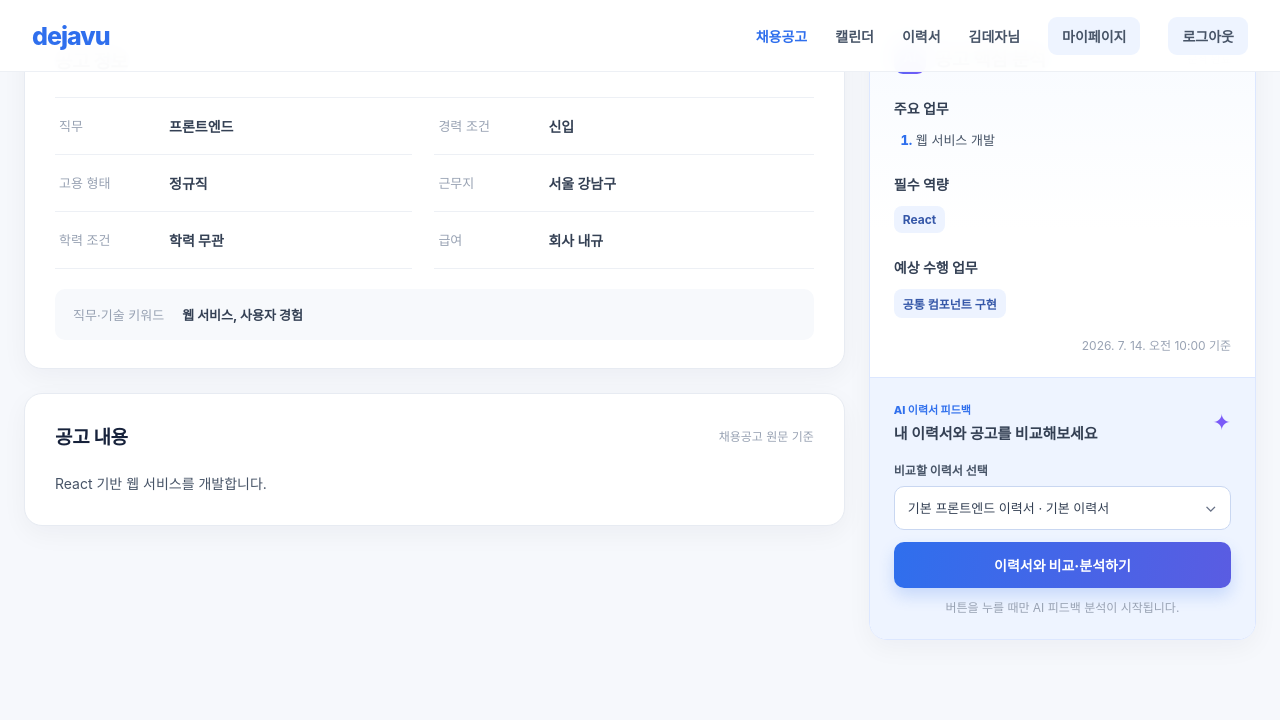
it: runs resume feedback only after the user clicks the comparison button
(page scrolled)
Expected: the dropdown labelled "비교할 이력서 선택" shows "기본 프론트엔드 이력서 · 기본 이력서", [894,486,1231,530]
Click the button "이력서와 비교·분석하기" at (1062, 565), box [894,542,1231,588]
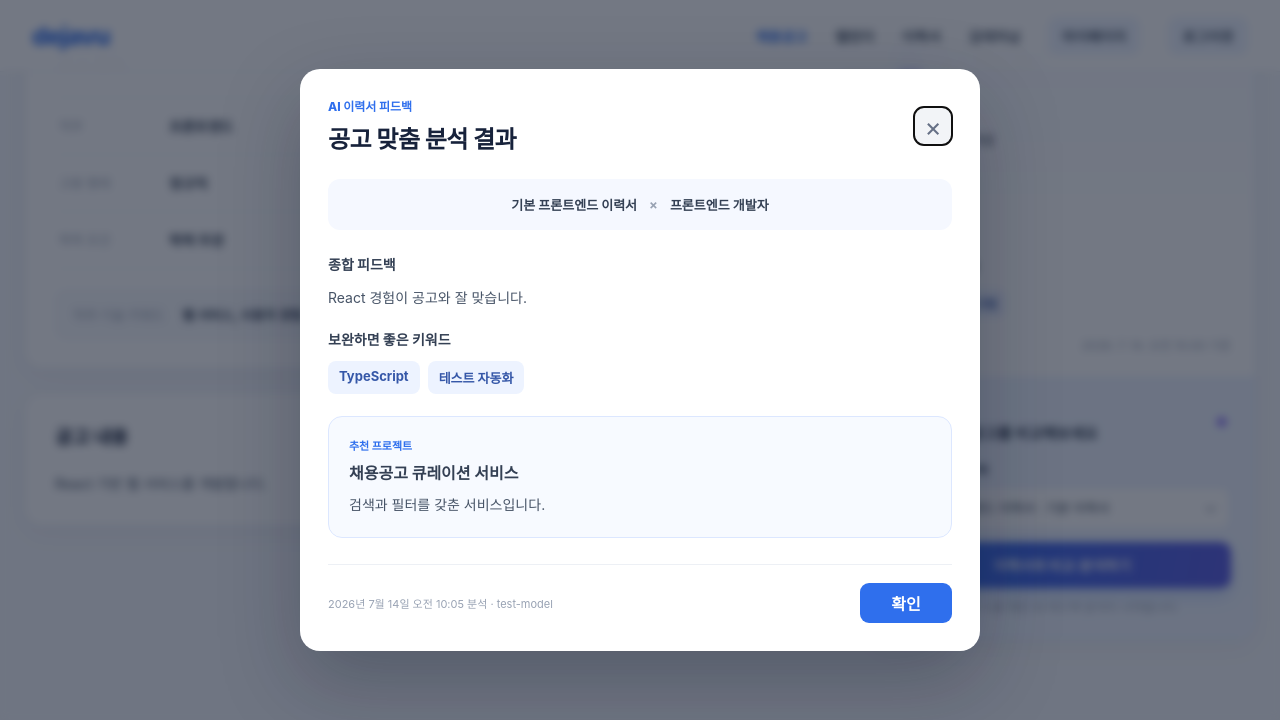
Expected: the heading "공고 맞춤 분석 결과" is shown, [328,120,516,155]
Expected: the list item "TypeScript" is shown, [328,360,420,394]
